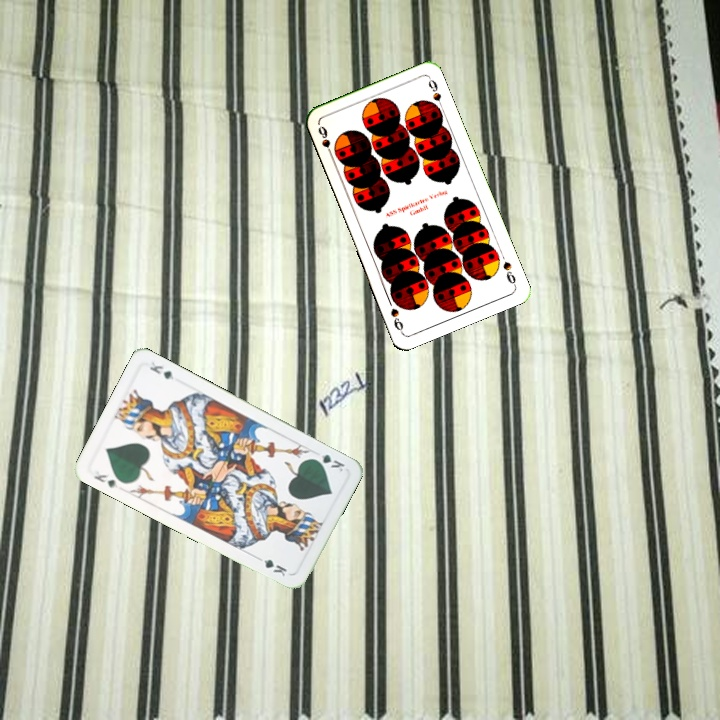GK: (308, 450, 347, 475), (89, 466, 121, 491)
S9: (314, 121, 335, 160), (499, 257, 519, 289)
